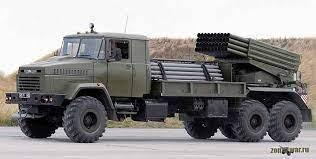rszo: (3, 17, 314, 144)
